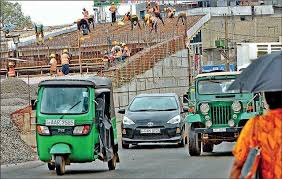tuk tuk: (35, 76, 121, 177)
